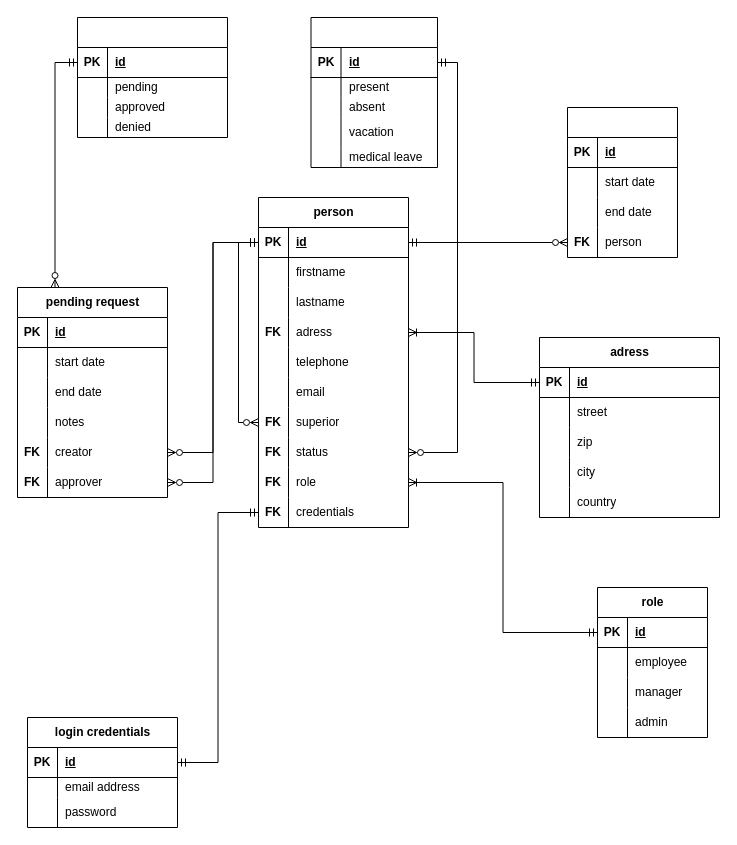
This 737x845 diagram has some shape labels left out. The shapes that lost their labels are listed below. From the top down, each one's box as (x1, y1, x2, y2) in pixels, then its label:
(76, 16, 228, 138): request status
(310, 16, 438, 168): employee status
(566, 106, 678, 258): time stamp
